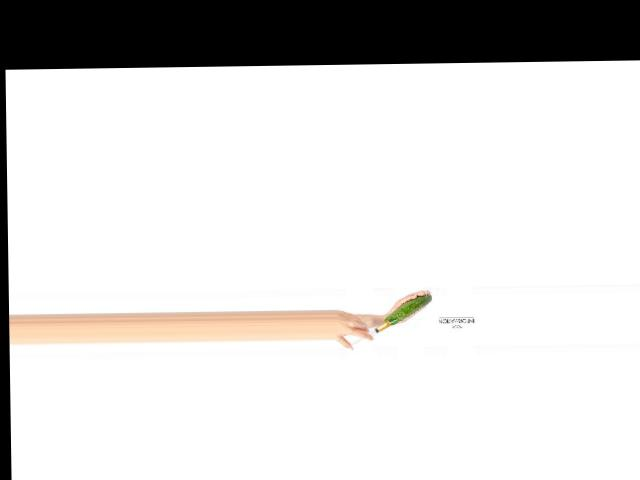cucumber: (384, 294, 431, 326)
